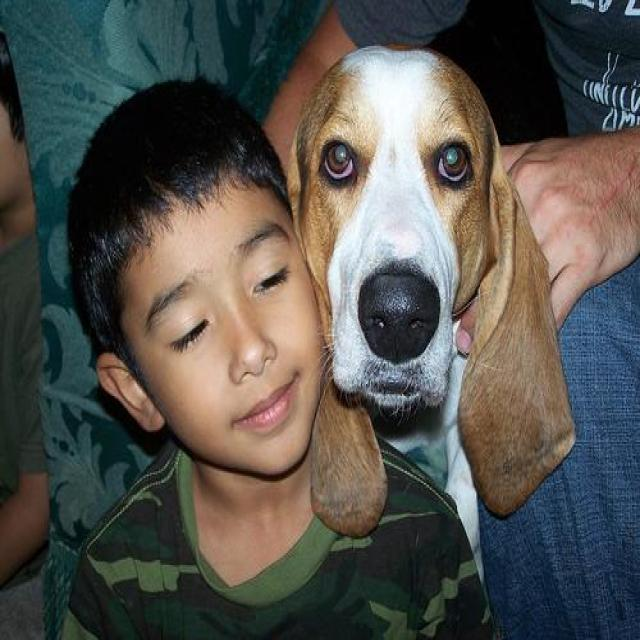basset: (283, 38, 573, 532)
